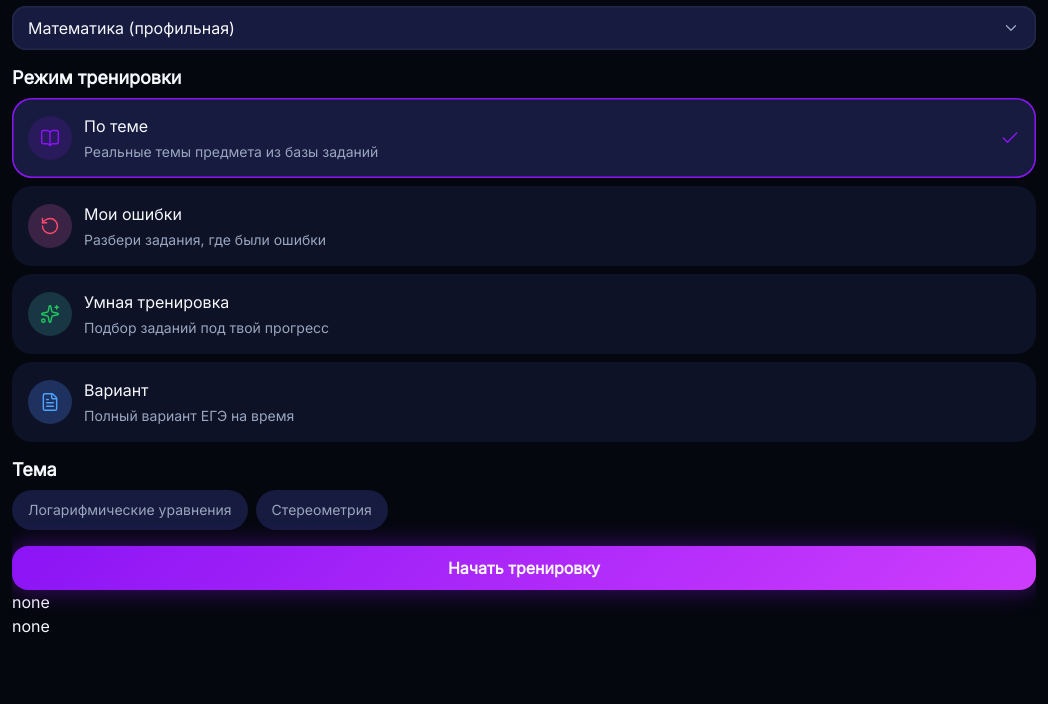
Scenario: Training — "Умная тренировка" (Phase 10: real backend learning session, unchanged) › shows an error and never fakes a session when the backend can find no candidate task
This screenshot has width=1048, height=704.
Step 1. Click the button "Умная тренировка Подбор заданий под твой прогресс" → [50, 314], box [12, 274, 1036, 354]
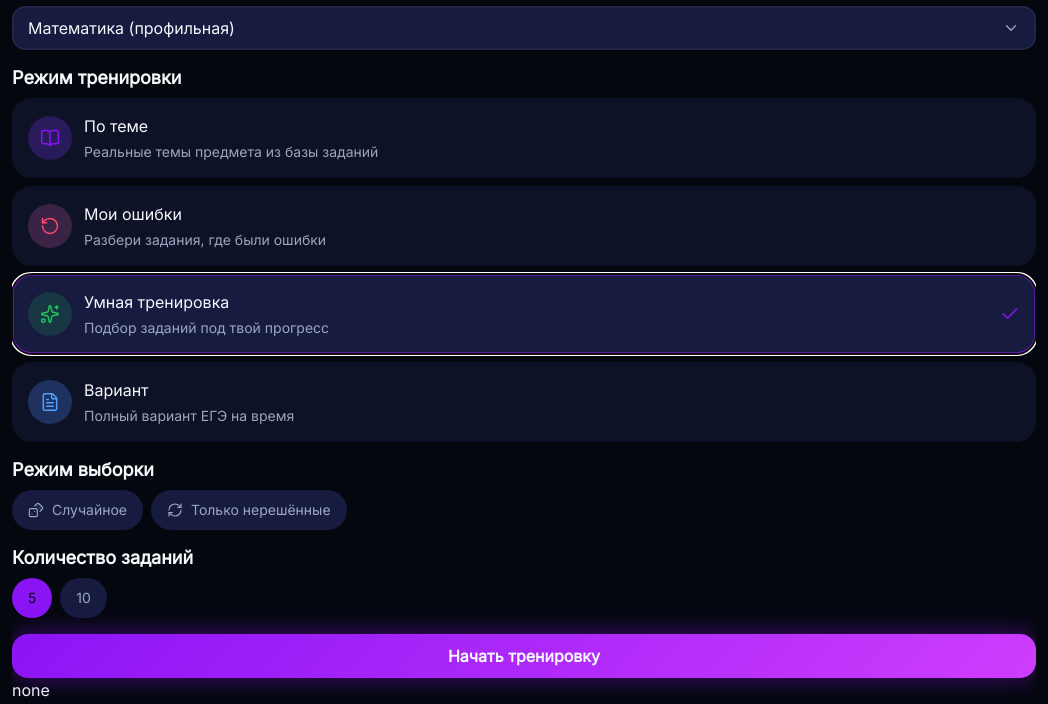
Step 2. Click the button "Начать тренировку" → [524, 656], box [12, 634, 1036, 678]
(page scrolled)
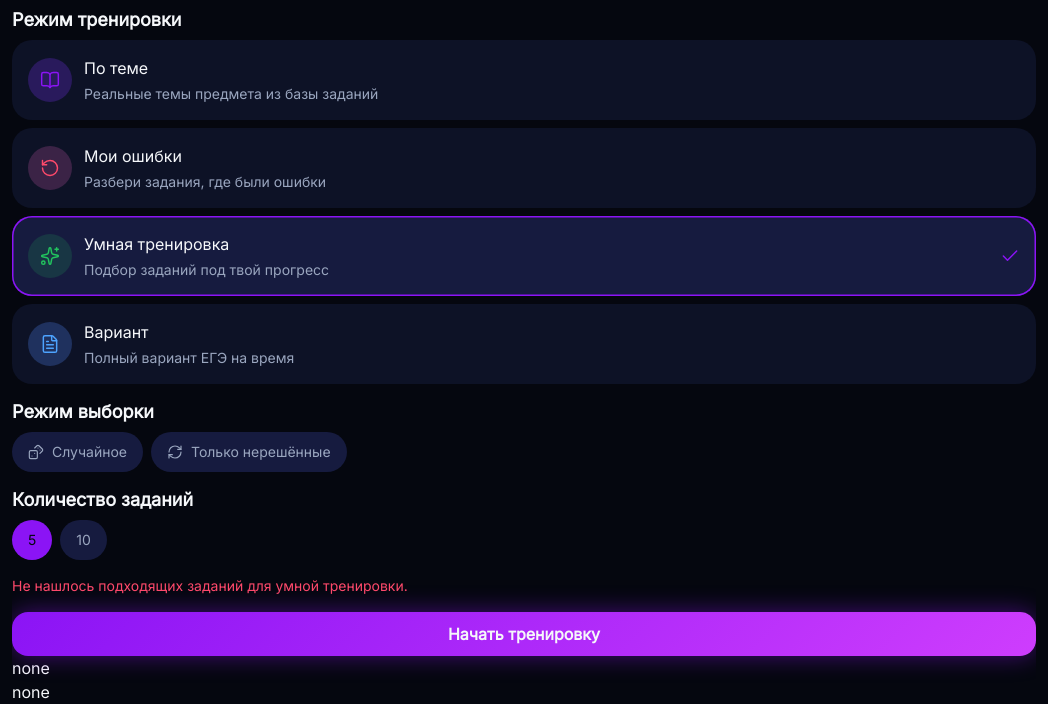
Expected: the text with test id "session" reads "none", [12, 682, 50, 702]
Result: the text "Не нашлось подходящих заданий для умной тренировки." is shown at [12, 577, 408, 594]
